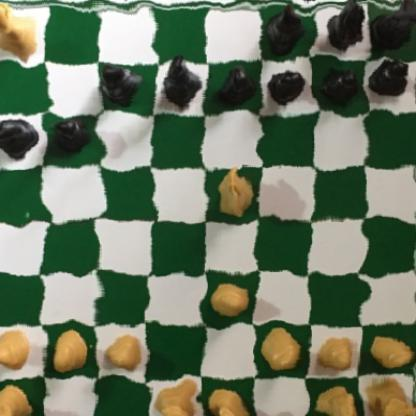black-bishop: (96, 63, 150, 112), (263, 0, 301, 51)
black-king: (157, 54, 202, 114)
black-knight: (323, 0, 366, 58)
black-pawn: (318, 61, 362, 109), (212, 69, 257, 109), (265, 69, 309, 109), (372, 60, 414, 98), (49, 115, 92, 152), (0, 114, 36, 154)
black-rook: (365, 0, 416, 59)
white-bishop: (0, 5, 43, 59)
white-king: (201, 379, 249, 416)
white-knight: (212, 164, 257, 219), (307, 379, 357, 416)
white-pawn: (260, 327, 303, 377), (366, 328, 416, 370), (50, 330, 93, 373), (314, 330, 356, 374), (103, 329, 141, 377), (210, 280, 253, 322), (0, 328, 35, 369)
white-queen: (148, 376, 199, 416)
white-rook: (356, 374, 416, 416), (0, 379, 36, 416)
